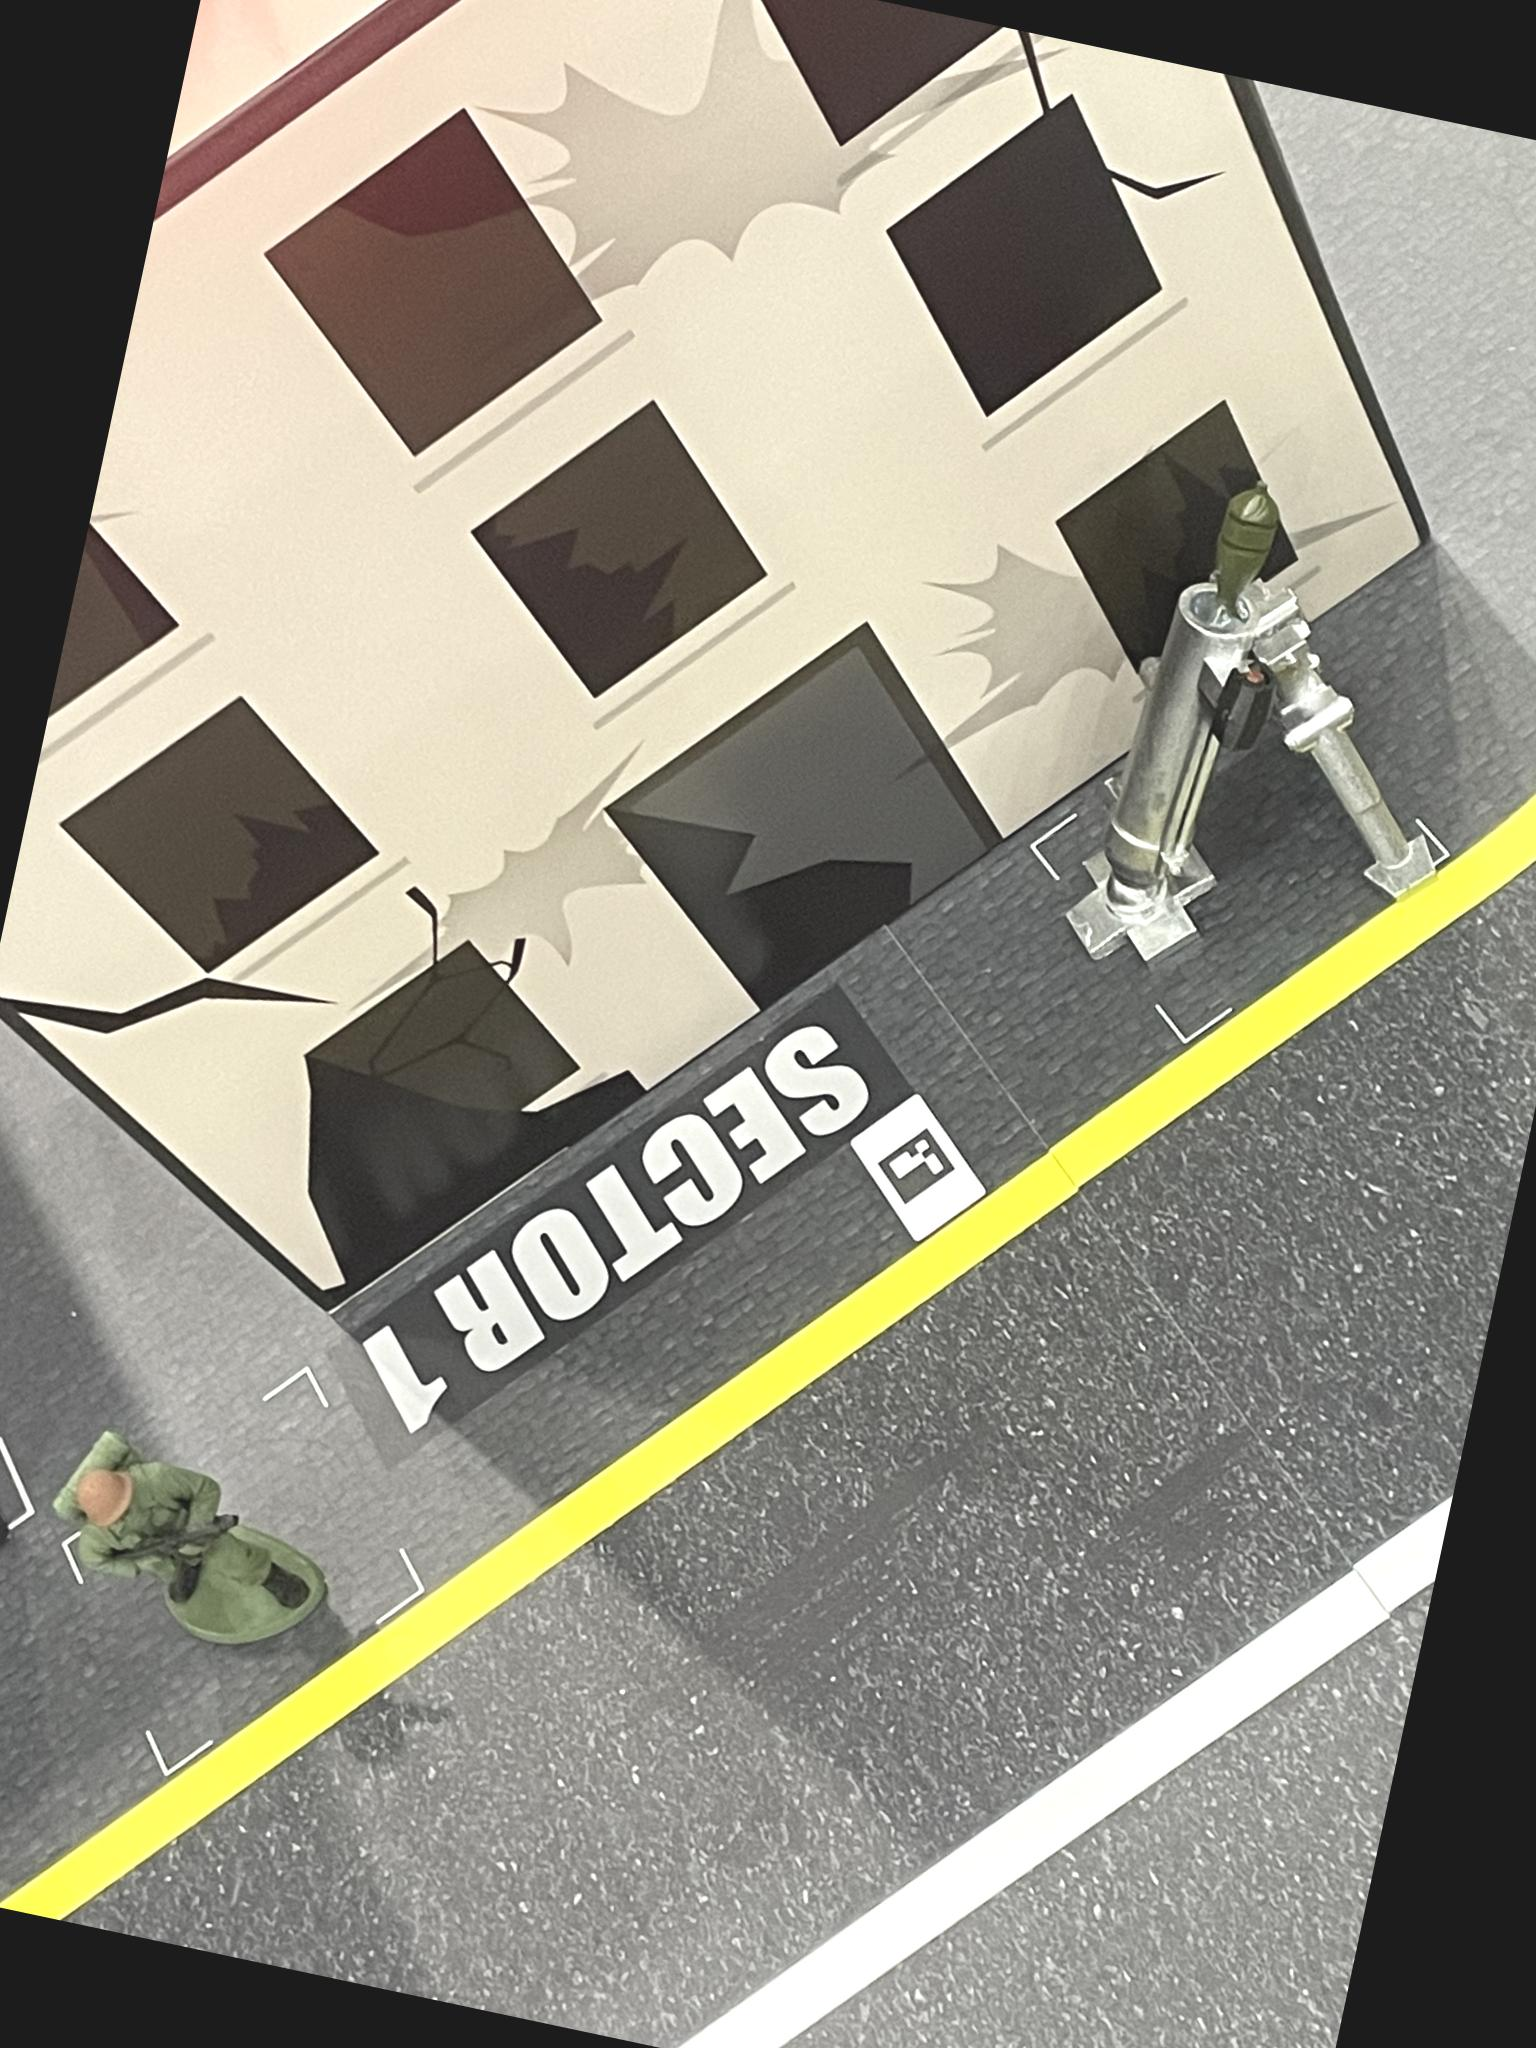Enemy: (21, 1405, 361, 1680)
Mortar: (1041, 453, 1515, 1037)
